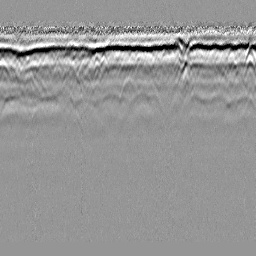cavity: (118, 75, 140, 105)
